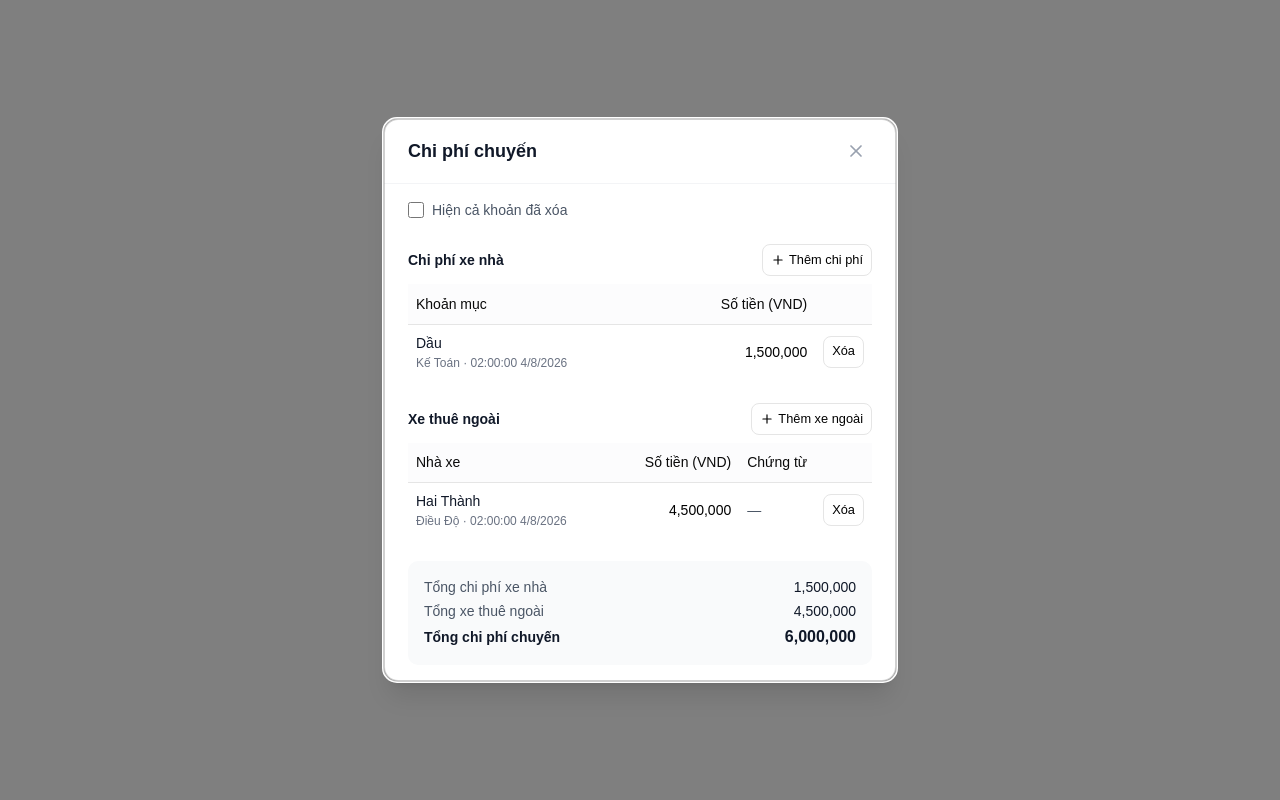
Test: TripCostModal › what it shows › ★ the add form appears in place › ★ opens no second dialog
The width and height of the screenshot is (1280, 800).
expect the number of dialogs is 1: met, box [384, 119, 896, 681]
What coordinates should you click on to do the following:
click the button "Thêm chi phí"
I would click on:
 (817, 260)
Its box is [762, 244, 872, 276].
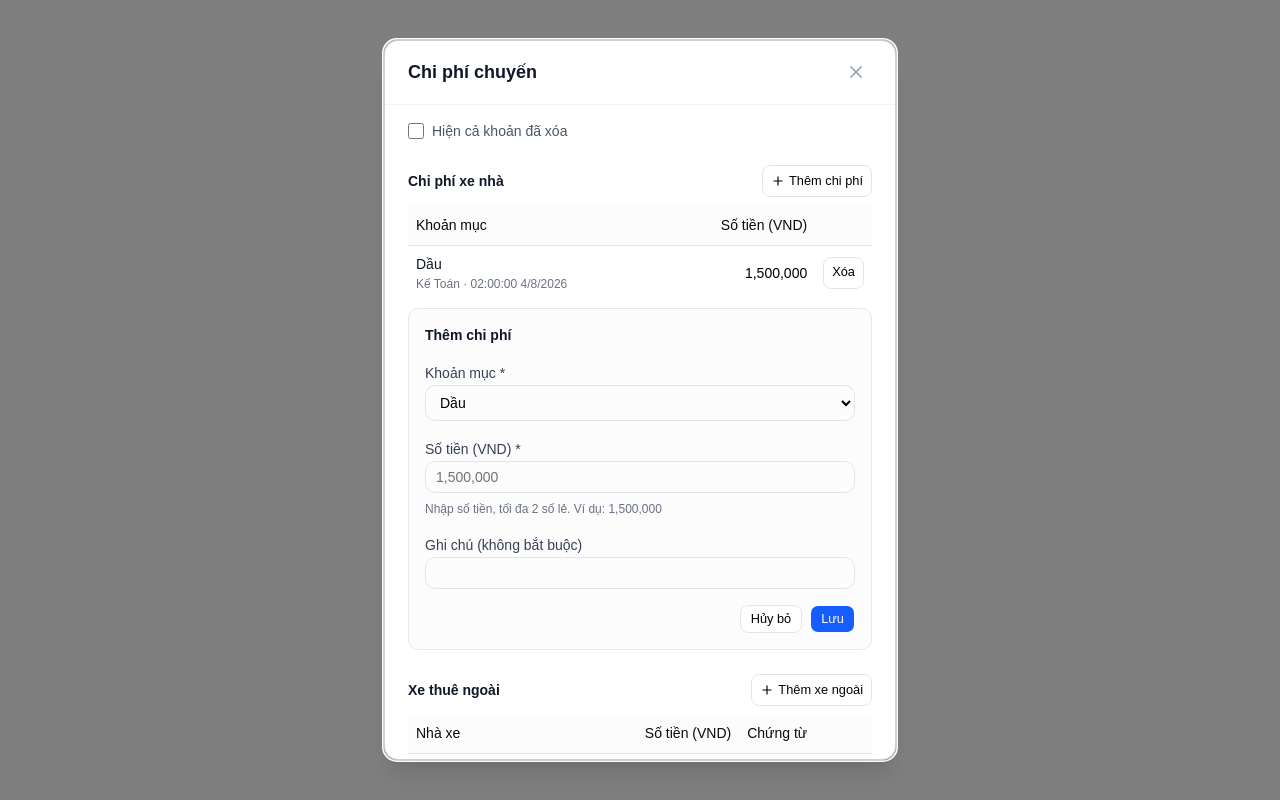
expect the number of dialogs is 1: met, box [384, 40, 896, 760]
expect the field labelled "Số tiền (VND) *" is shown: met, box [425, 460, 855, 492]
